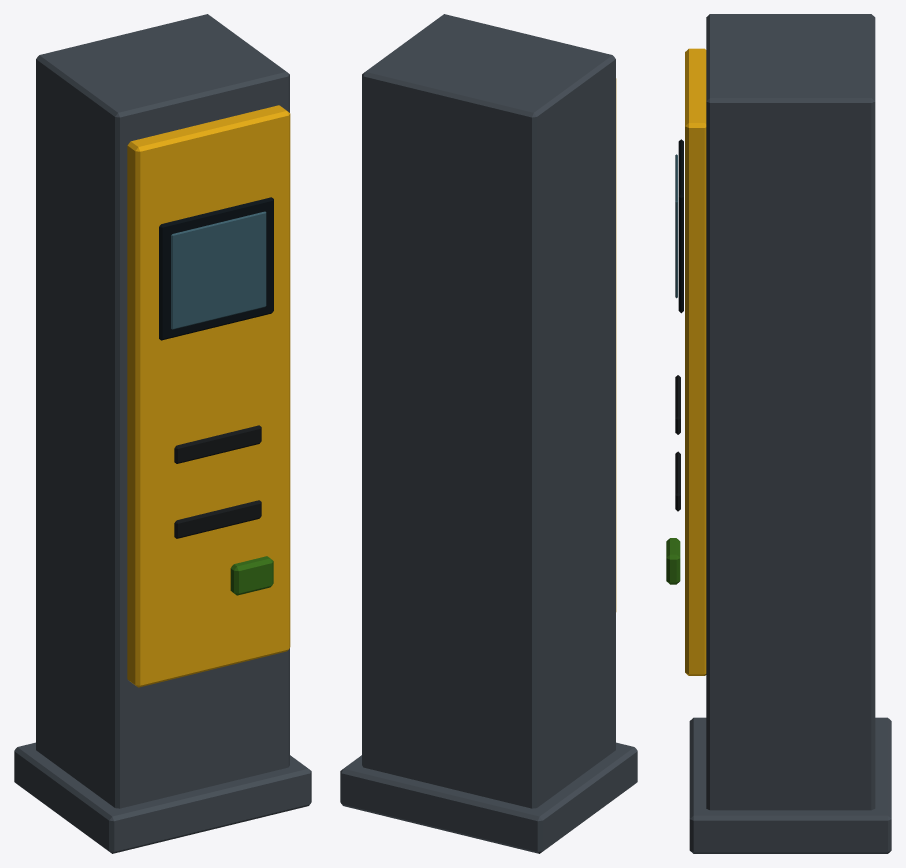
File: ParkingPaymentKiosk.fbx
3 renders of one model, left to right at view 1: azimuth 30°, elevation 25°; view 2: azimuth 150°, elevation 25°; view 3: azimuth 270°, elevation 25°, orthographic. The views are drawn at different scales.
Parts seen in each view (by area): view 1: ParkingPaymentKiosk; view 2: ParkingPaymentKiosk; view 3: ParkingPaymentKiosk.
Boxes of the visible parts, x1,y1,x2,y2 form: ParkingPaymentKiosk: (14,14,311,853); ParkingPaymentKiosk: (340,14,637,853); ParkingPaymentKiosk: (666,14,891,853).
Bounding box in the file's own units: 51 × 176 × 48.
Materials: 1 (1 with a texture image).
